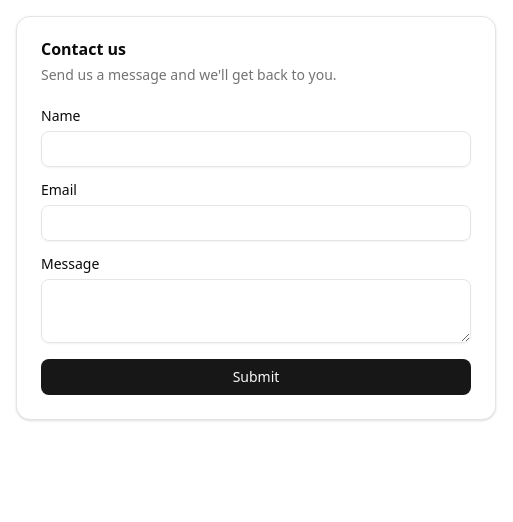
Test: Contact form (home page) › shows a required message under each empty field and no confirmation on empty submit
Step 1. Click the button "Submit" → x=256, y=377, box left=41, top=359, right=471, bottom=395
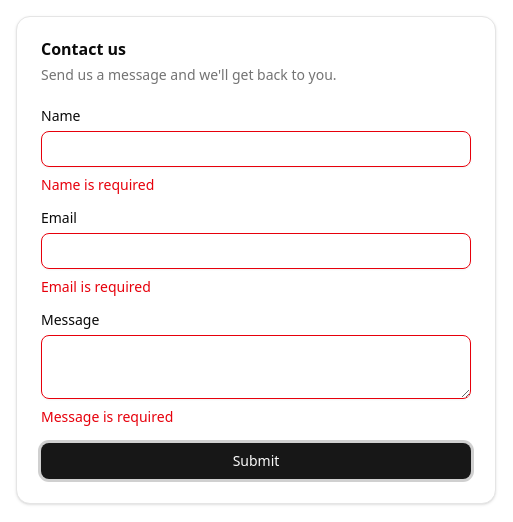
Check: the text "Name is required" is shown 3 times, box left=41, top=175, right=154, bottom=194; left=41, top=277, right=151, bottom=296; left=41, top=407, right=173, bottom=426
